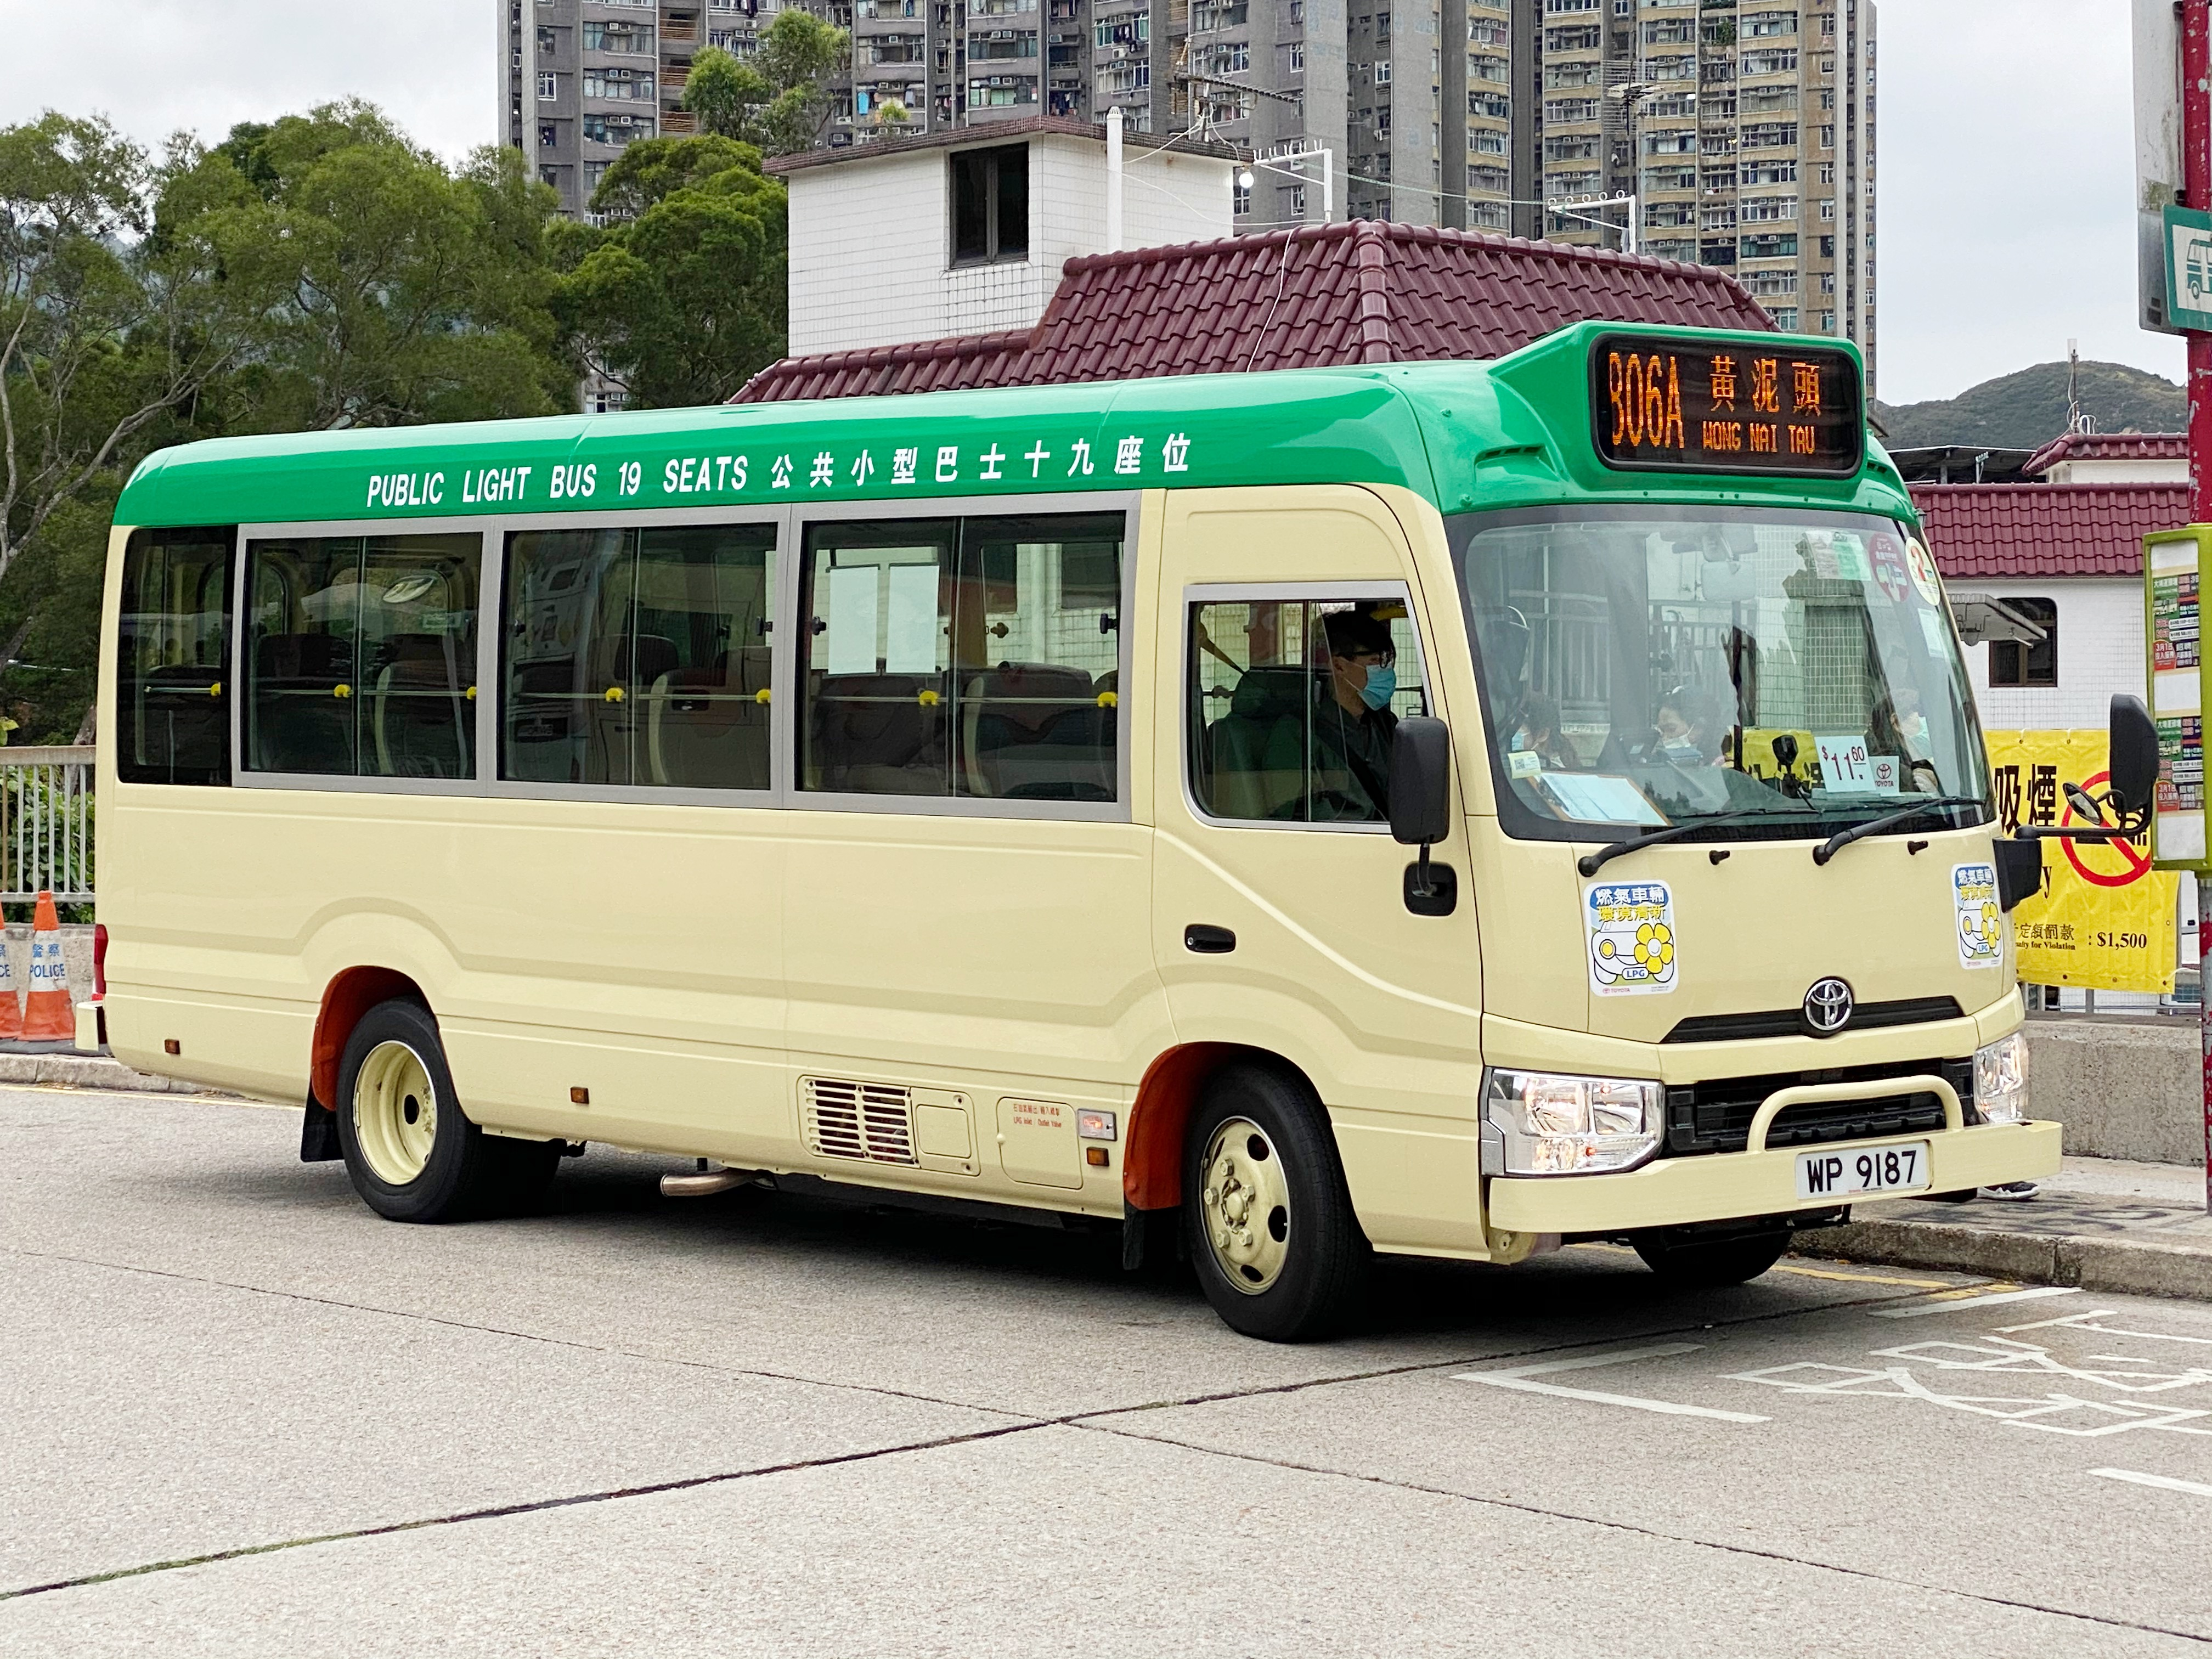bus: (80, 336, 2067, 1344)
